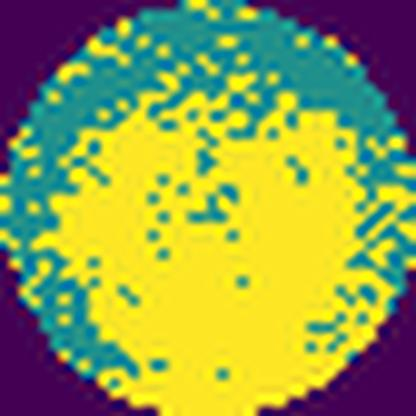Loc: (28, 86, 395, 416)
